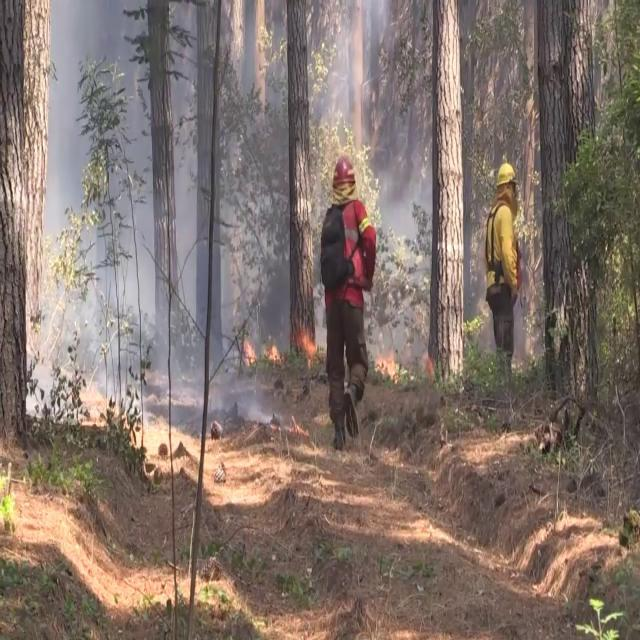Fire: (268, 414, 310, 436), (295, 328, 317, 363), (374, 351, 398, 383), (242, 340, 256, 366), (265, 343, 281, 363), (426, 358, 434, 378)
Smoke: (48, 0, 84, 233), (177, 167, 197, 334), (124, 213, 154, 319), (378, 172, 416, 235), (243, 399, 273, 425)
